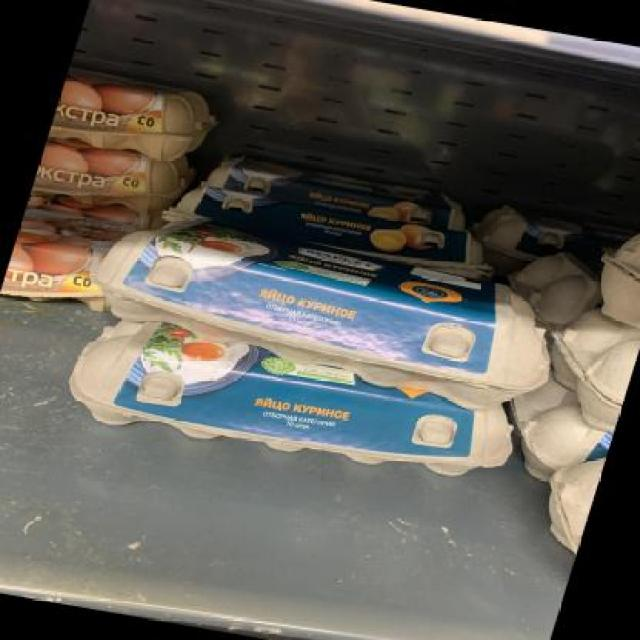Egg: (80, 204, 571, 414), (69, 315, 533, 487), (177, 182, 489, 268), (204, 152, 482, 234), (48, 66, 229, 166), (29, 137, 203, 226)
